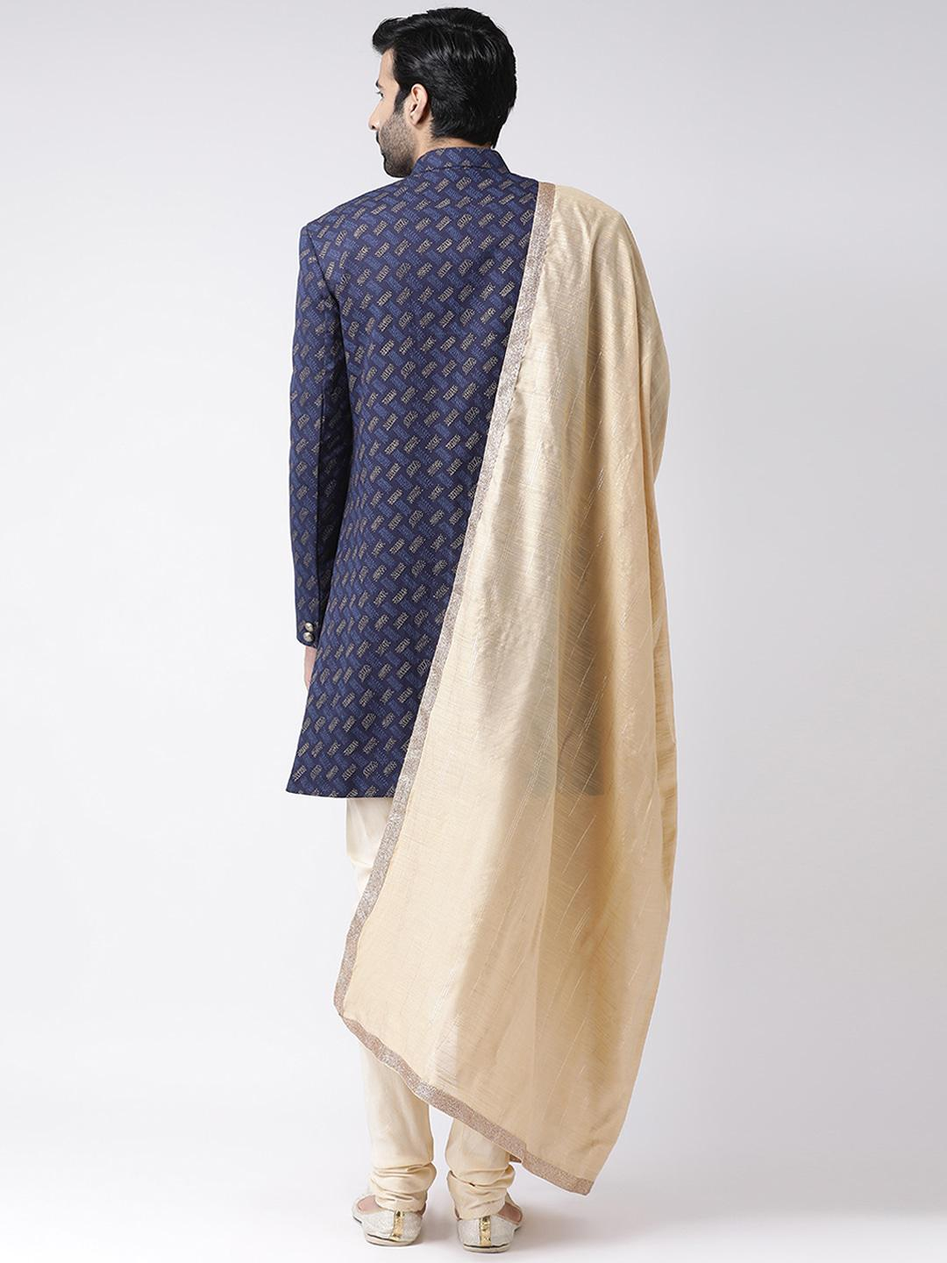Design Sherwani: (283, 145, 671, 800)
